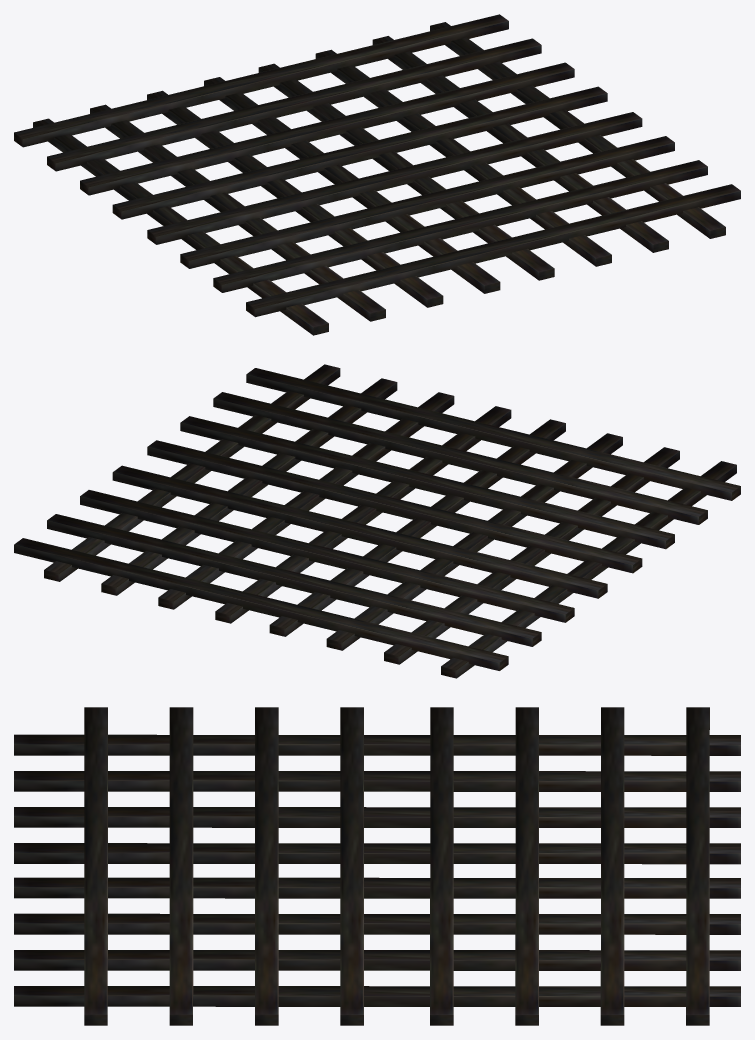
File: S_Build_Forest038.FBX
3 views of the same model, one above another, from view 1: azimuth 30°, elevation 25°; view 2: azimuth 150°, elevation 25°; view 3: azimuth 270°, elevation 25° (orthographic). The views are drawn at different scales.
Parts seen in each view (by area): view 1: S_Build_Forest038; view 2: S_Build_Forest038; view 3: S_Build_Forest038.
Boxes of the visible parts, x1,y1,x2,y2 form: S_Build_Forest038: [14, 14, 740, 335]; S_Build_Forest038: [14, 364, 740, 678]; S_Build_Forest038: [14, 707, 740, 1025].
Size of the model in its own units: 254 by 254 by 7.48.
